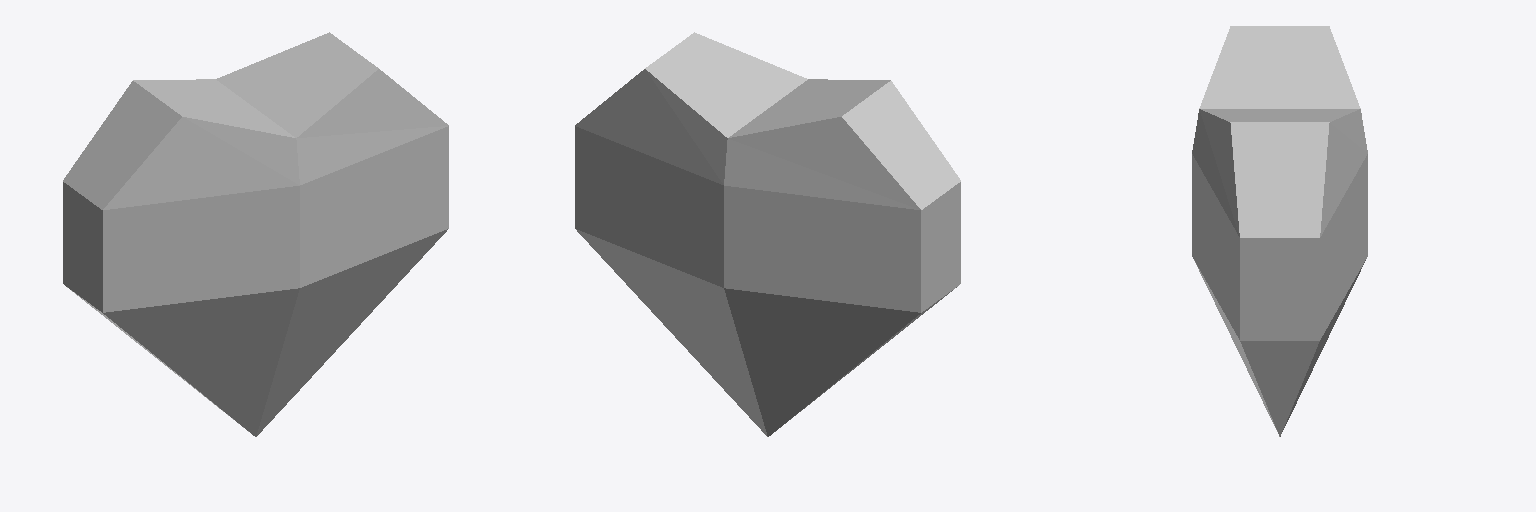
File: heart.obj
3 renders of one model, left to right at view 1: azimuth 30°, elevation 25°; view 2: azimuth 150°, elevation 25°; view 3: azimuth 270°, elevation 25°, orthographic.
Parts seen in each view (by area): view 1: Heart; view 2: Heart; view 3: Heart.
Boxes of the visible parts, x1,y1,x2,y2 form: Heart: [63, 32, 448, 436]; Heart: [575, 32, 960, 436]; Heart: [1192, 26, 1367, 436].
Size of the model in its own units: 2 by 2 by 0.8789.